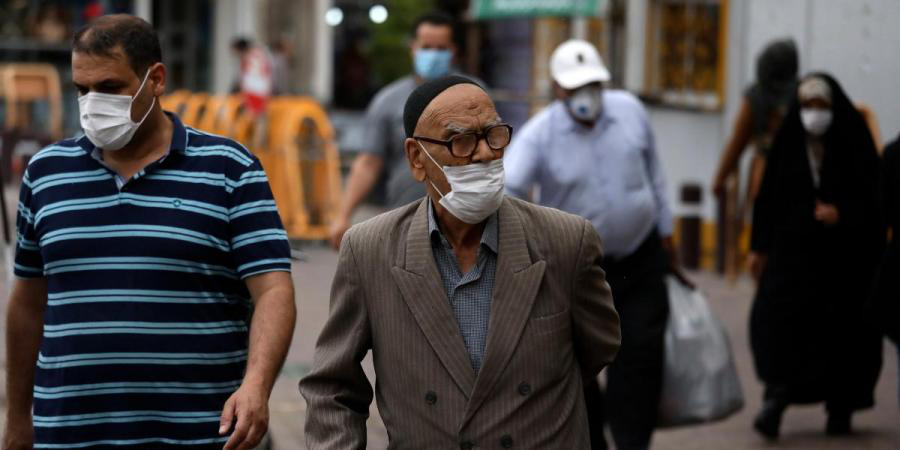mask_weared_incorrect: (401, 92, 517, 226)
with_mask: (68, 54, 171, 153)
